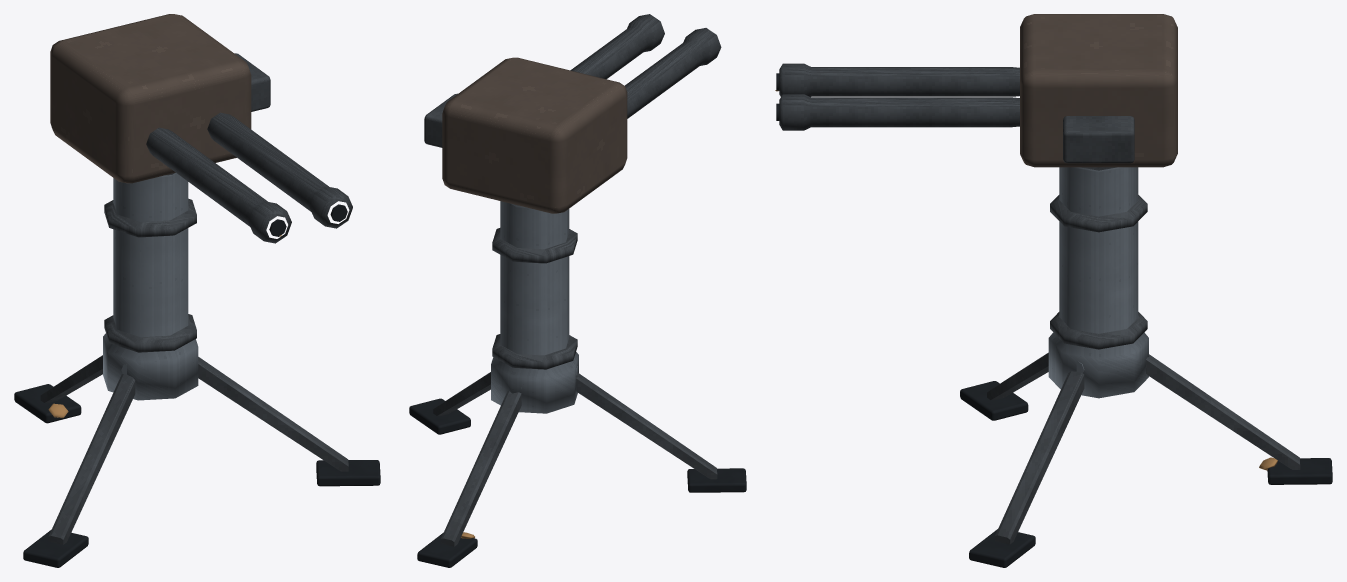
File: turret.lod2.glb
3 renders of one model, left to right at view 1: azimuth 30°, elevation 25°; view 2: azimuth 150°, elevation 25°; view 3: azimuth 270°, elevation 25°, orthographic. The views are drawn at different scales.
Visible parts, largest first — view 1: ceramic / ceramic composite panel, darksteel / oil-blackened fittings, alloy / machined anodized alloy, polymer / stippled polymer; view 2: ceramic / ceramic composite panel, darksteel / oil-blackened fittings, alloy / machined anodized alloy, polymer / stippled polymer; view 3: darksteel / oil-blackened fittings, ceramic / ceramic composite panel, alloy / machined anodized alloy, polymer / stippled polymer.
Part boxes in pixels (left/top/right/bottom): ceramic / ceramic composite panel: left=50, top=14, right=251, bottom=183; darksteel / oil-blackened fittings: left=40, top=53, right=352, bottom=544; alloy / machined anodized alloy: left=103, top=173, right=198, bottom=400; polymer / stippled polymer: left=14, top=204, right=380, bottom=567; ceramic / ceramic composite panel: left=442, top=57, right=627, bottom=213; darksteel / oil-blackened fittings: left=424, top=14, right=721, bottom=546; alloy / machined anodized alloy: left=491, top=201, right=578, bottom=413; polymer / stippled polymer: left=409, top=398, right=746, bottom=567; darksteel / oil-blackened fittings: left=779, top=63, right=1300, bottom=544; ceramic / ceramic composite panel: left=1020, top=14, right=1177, bottom=167; alloy / machined anodized alloy: left=1048, top=167, right=1148, bottom=398; polymer / stippled polymer: left=776, top=73, right=1332, bottom=567.
Bounding box in the file's own units: 0.5896 × 0.671 × 0.776.
5 materials, 4 textured.
